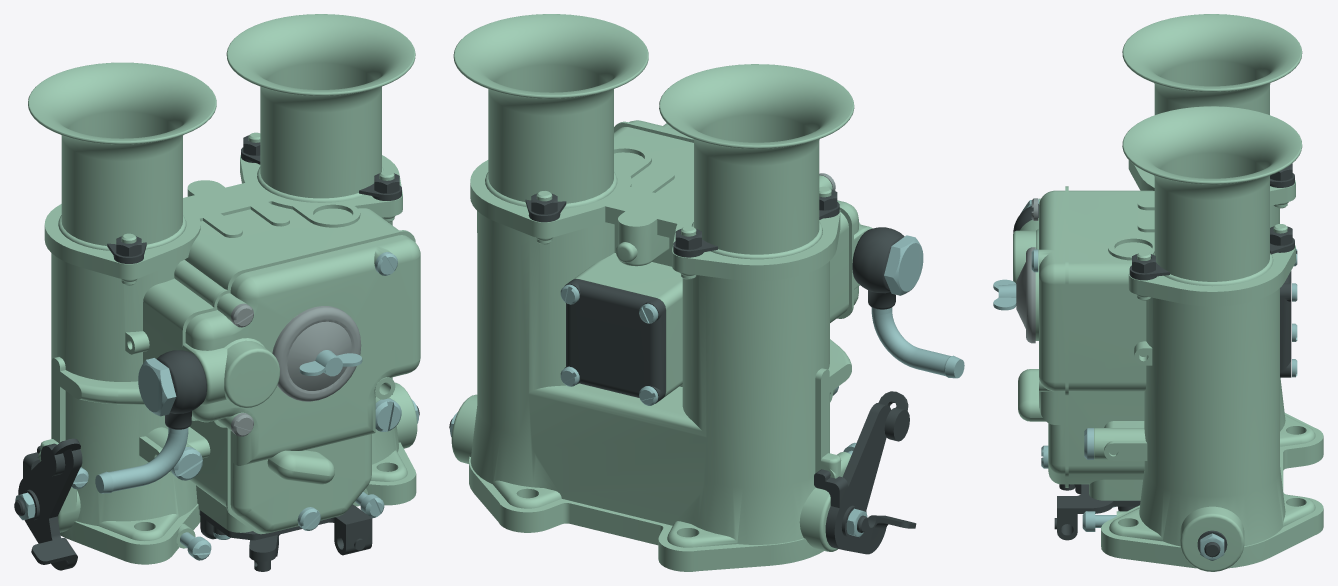
The model's file is carb.fbx.
3 views of the same model, side by side, from view 1: azimuth 30°, elevation 25°; view 2: azimuth 150°, elevation 25°; view 3: azimuth 270°, elevation 25° (orthographic). The views are drawn at different scales.
Parts seen in each view (by area): view 1: Generic32, Generic30, Generic19, Generic21, Generic33, Generic22, Generic14, Generic29, Generic31, Generic20, Generic24, Generic25 (+2 smaller); view 2: Generic32, Generic18, Generic19, Generic33, Generic22, Generic14, Generic29; view 3: Generic32, Generic21, Generic14, Generic30, Generic18, Generic31, Generic7.
Boxes of the visible parts, x1,y1,x2,y2 form: Generic32: (28, 14, 420, 564); Generic30: (272, 306, 361, 401); Generic19: (18, 438, 82, 570); Generic21: (199, 504, 372, 555); Generic33: (156, 350, 206, 429); Generic22: (95, 427, 188, 493); Generic14: (107, 135, 401, 263); Generic29: (138, 358, 176, 416); Generic31: (299, 350, 362, 376); Generic20: (249, 535, 278, 571); Generic24: (375, 398, 401, 431); Generic25: (171, 447, 202, 480); Generic32: (451, 14, 872, 571); Generic18: (564, 279, 665, 403); Generic19: (814, 391, 916, 554); Generic33: (852, 227, 904, 309); Generic22: (871, 307, 964, 378); Generic14: (525, 189, 839, 257); Generic29: (884, 235, 923, 295); Generic32: (1013, 14, 1323, 571); Generic21: (1054, 484, 1140, 540); Generic14: (1129, 163, 1294, 280); Generic30: (1016, 247, 1035, 343); Generic18: (1280, 271, 1291, 377); Generic31: (993, 279, 1016, 310); Generic7: (1082, 511, 1116, 531).
Size of the model in its own units: 2.01 by 2.02 by 1.46.
